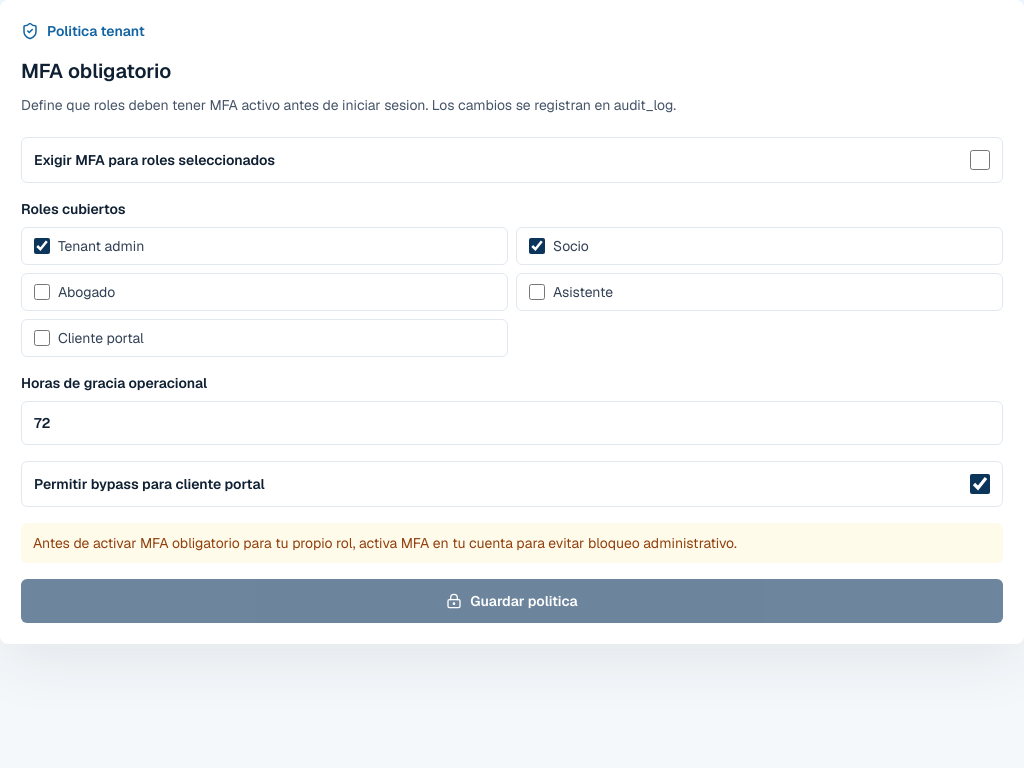
it: TenantSecurityPolicy › loads and saves MFA policy for selected roles
This screenshot has width=1024, height=768.
Expected: the heading "MFA obligatorio" is shown, [21, 58, 171, 84]
Click the checkbox labelled "Exigir MFA para roles seleccionados".
click(980, 160)  # box [970, 150, 990, 170]
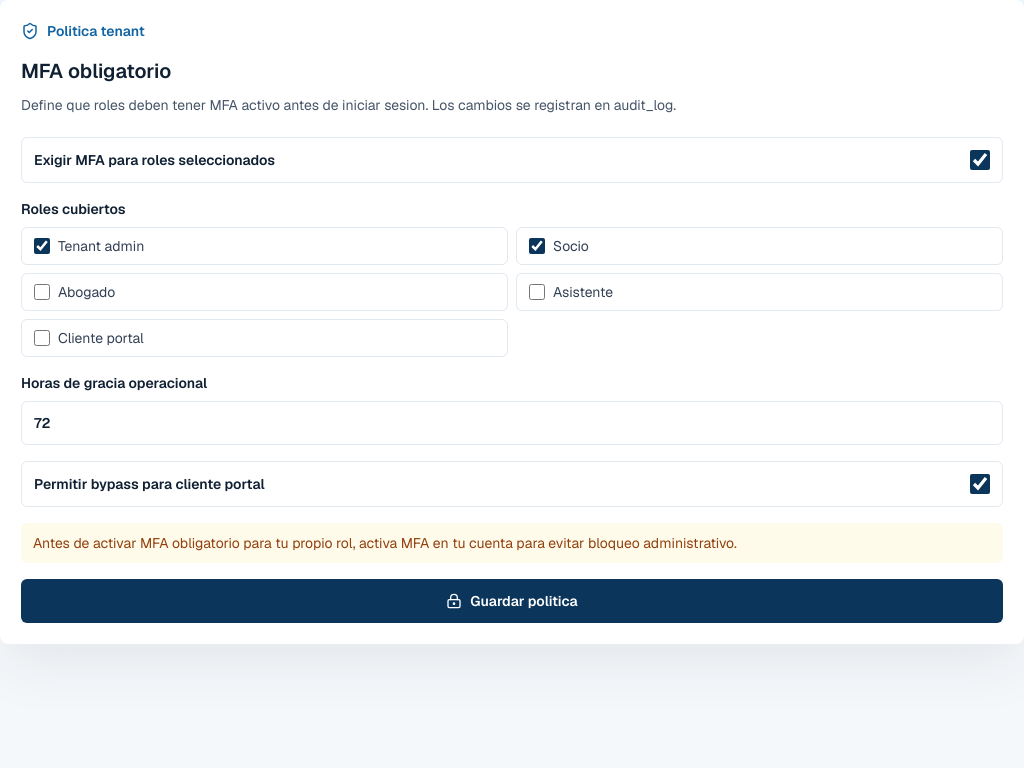
Click the checkbox labelled "Abogado".
click(42, 292)  # box [34, 284, 50, 300]
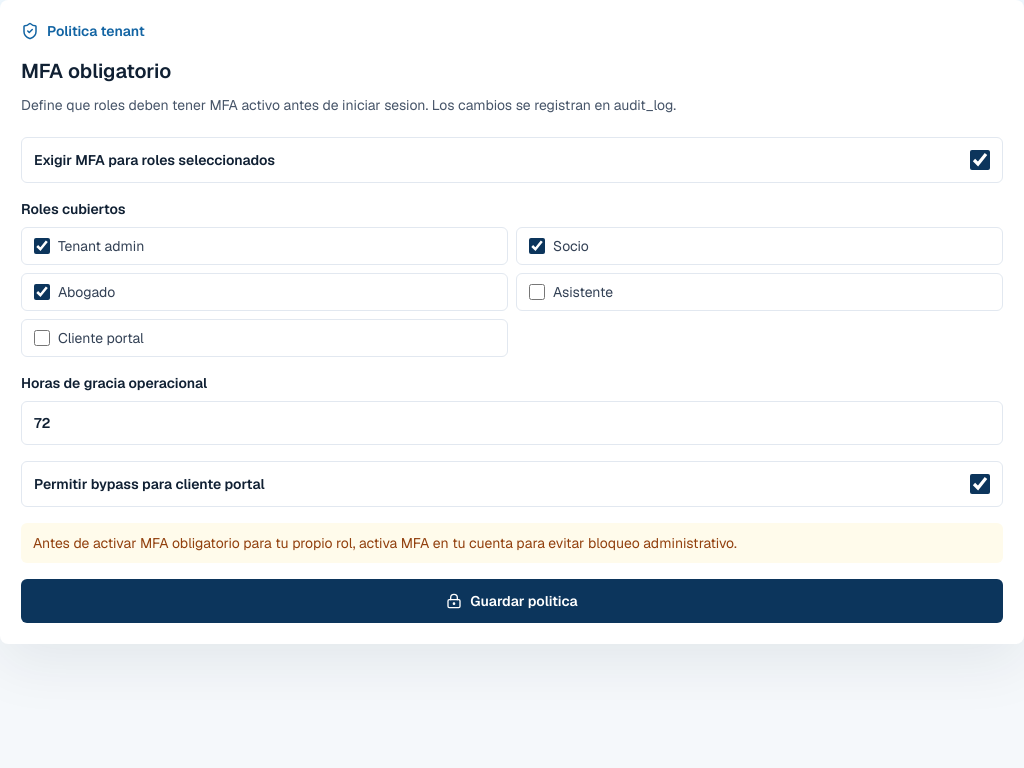
Replace the text in the number field labelled "Horas de gracia operacional" with "48" at (512, 423), box [21, 401, 1003, 445]
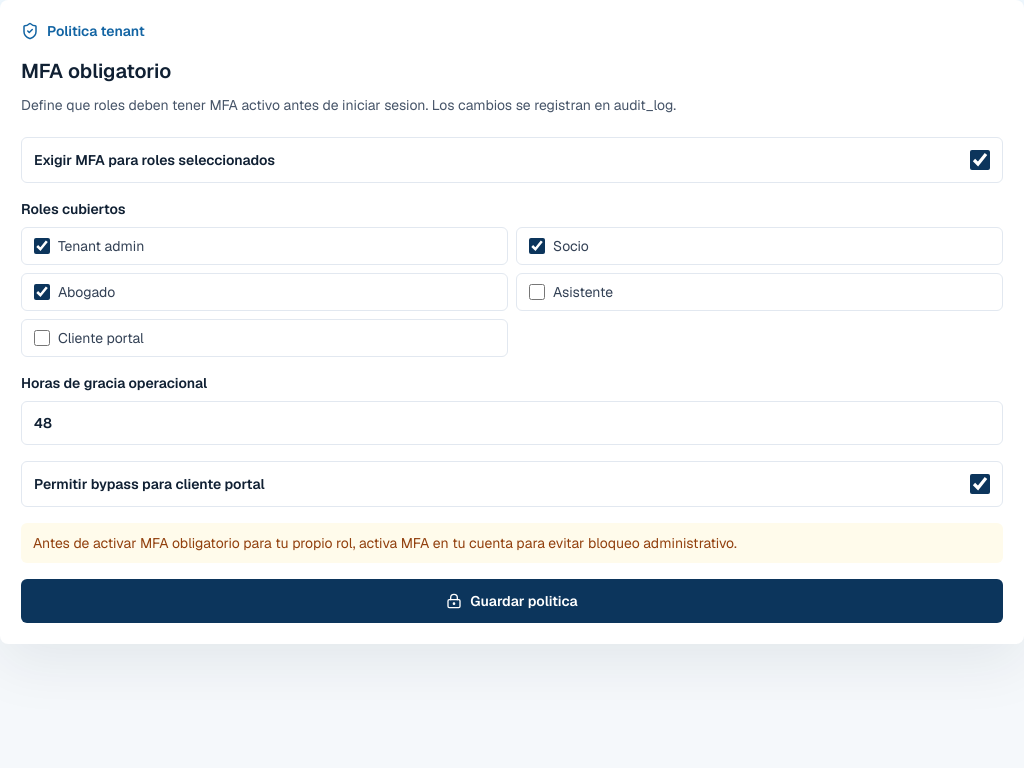
Click the button "Guardar politica".
click(512, 601)  # box [21, 579, 1003, 623]
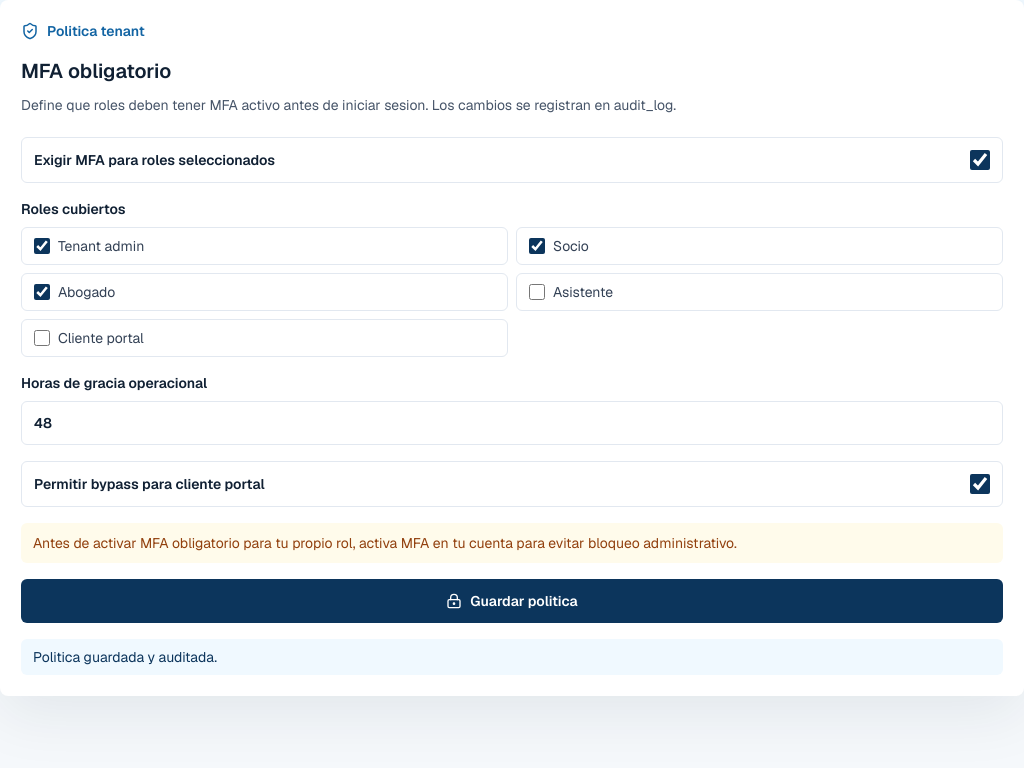
Expected: the text "Politica guardada y auditada." is shown, [21, 639, 1003, 675]
